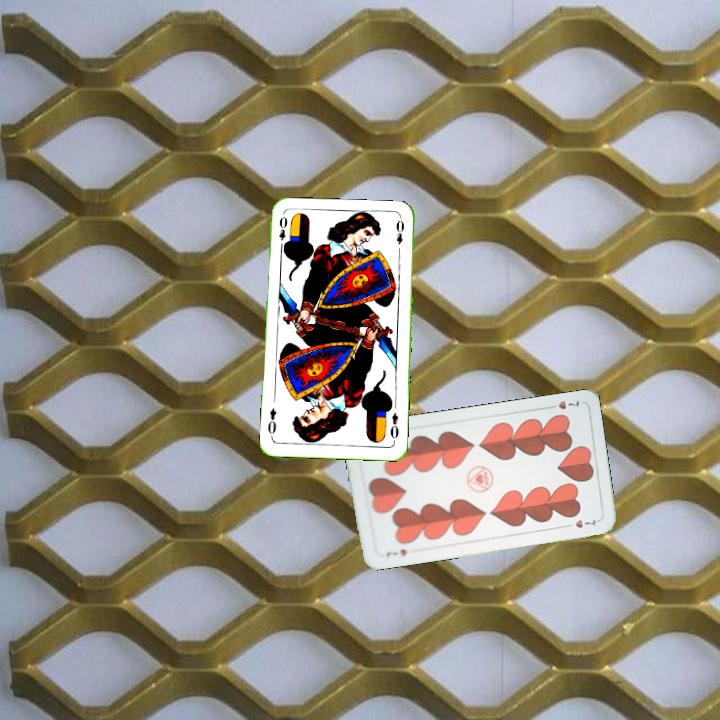EO: (275, 212, 290, 252), (386, 409, 401, 445)
H7: (543, 397, 582, 412), (382, 545, 409, 559)
